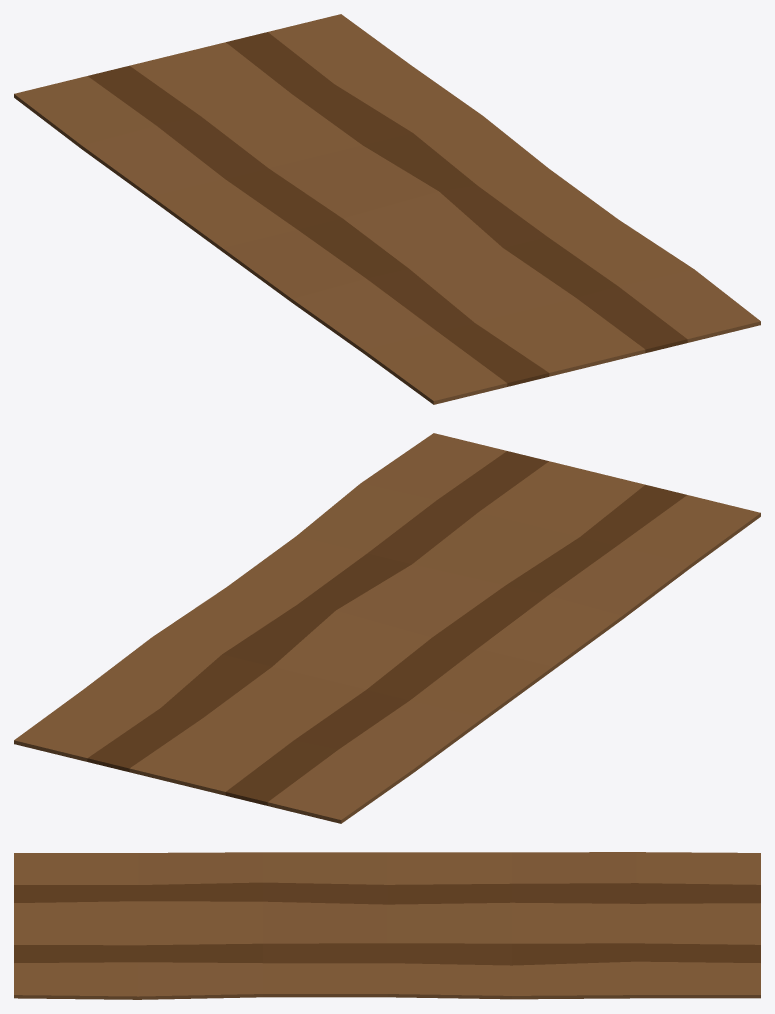
Rendered from Road_04.fbx.
The picture shows the model from 3 angles, top to bottom: view 1: azimuth 30°, elevation 25°; view 2: azimuth 150°, elevation 25°; view 3: azimuth 270°, elevation 25°; orthographic projection. The views are drawn at different scales.
Parts seen in each view (by area): view 1: Road_04; view 2: Road_04; view 3: Road_04.
Boxes of the visible parts, x1,y1,x2,y2 form: Road_04: (14, 14, 760, 404); Road_04: (14, 433, 760, 823); Road_04: (14, 852, 760, 999).
Size of the model in its own units: 457 by 9.66 by 1000.
